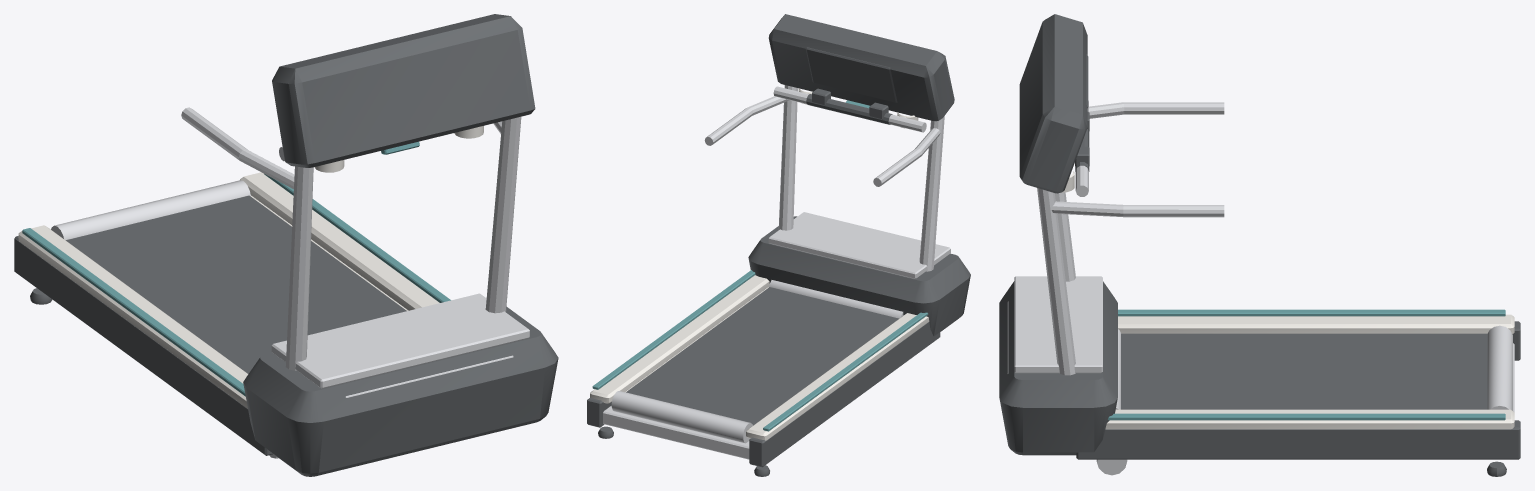
The model's file is hotel-and-resort-operations-treadmill-9dd028ff__25928.glb.
The picture shows the model from 3 angles, left to right: view 1: azimuth 30°, elevation 25°; view 2: azimuth 150°, elevation 25°; view 3: azimuth 270°, elevation 25°; orthographic projection. The views are drawn at different scales.
Parts seen in each view (by area): view 1: treadmill; view 2: treadmill; view 3: treadmill.
Part boxes in pixels (left/top/right/bottom): treadmill: left=14, top=14, right=558, bottom=476; treadmill: left=587, top=14, right=970, bottom=476; treadmill: left=999, top=14, right=1520, bottom=476.
Bounding box in the file's own units: 0.9201 × 1.36 × 1.76.
